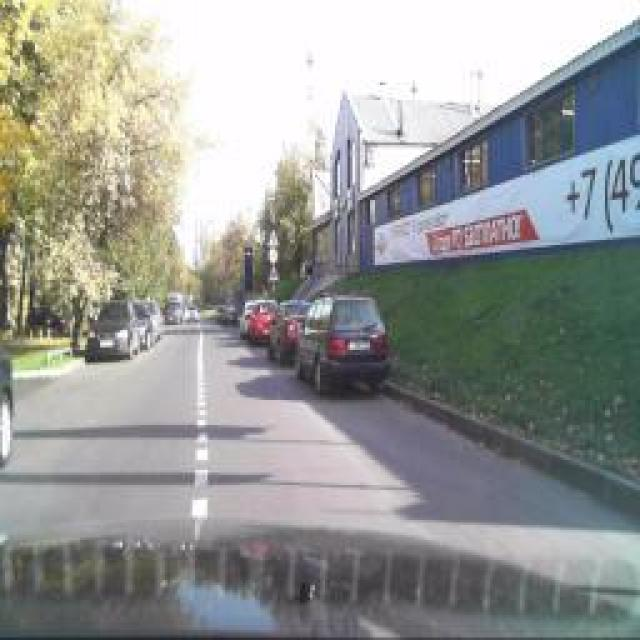sign: (268, 247, 280, 265)
